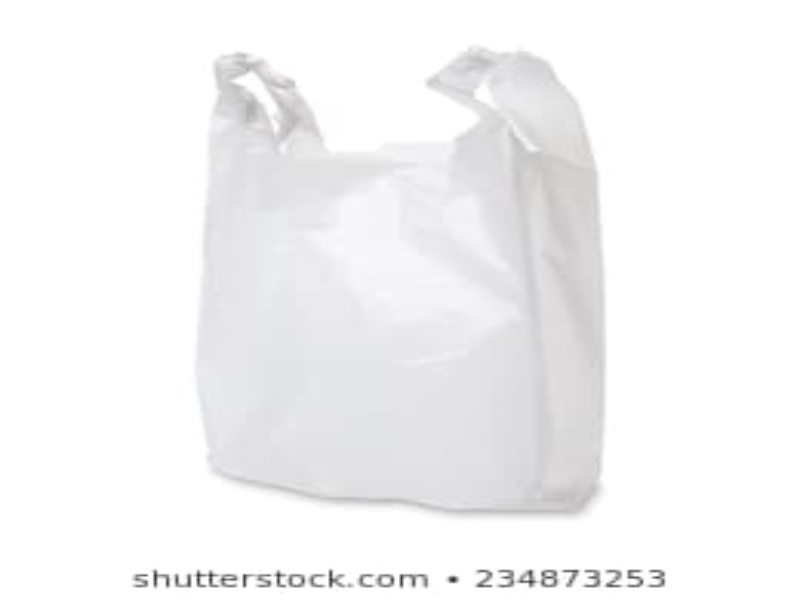plastic-bag: (202, 41, 618, 516)
